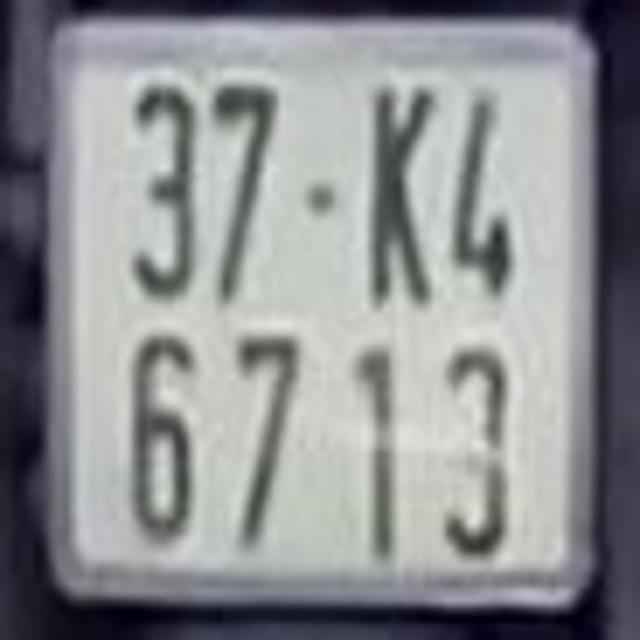1: (346, 339, 402, 559)
3: (442, 338, 510, 553), (133, 84, 198, 300)
4: (452, 96, 514, 302)
6: (126, 328, 203, 559)
7: (208, 78, 288, 308), (224, 324, 299, 540)
K: (353, 82, 439, 317)
